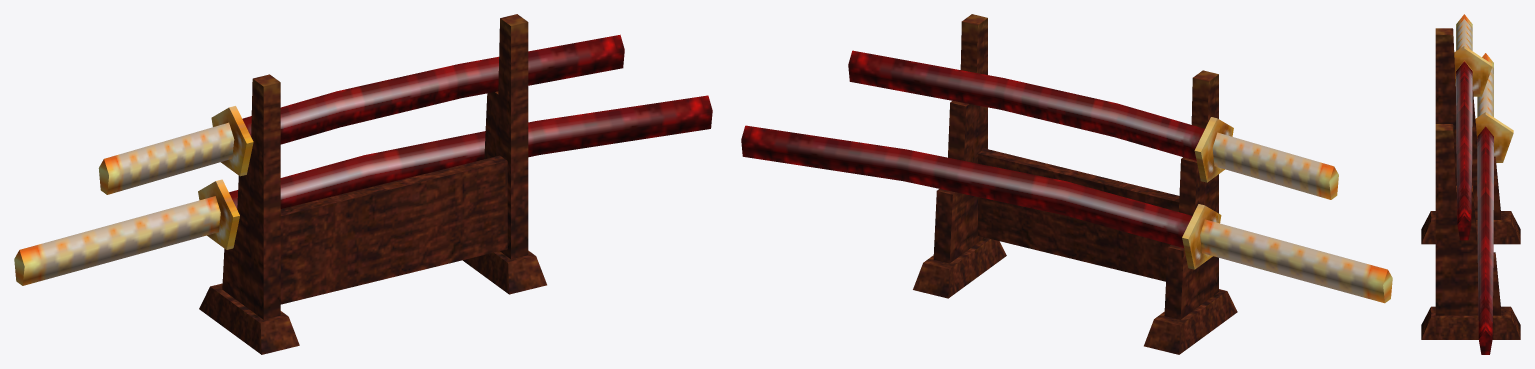
File: swordrack_s3.fbx
3 renders of one model, left to right at view 1: azimuth 30°, elevation 25°; view 2: azimuth 150°, elevation 25°; view 3: azimuth 270°, elevation 25°, orthographic. The views are drawn at different scales.
Visible parts, largest first — view 1: mesh_0, mesh_2, mesh_1, mesh_3, mesh_4; view 2: mesh_0, mesh_1, mesh_2, mesh_4, mesh_3; view 3: mesh_4, mesh_0, mesh_3, mesh_1.
Boxes of the visible parts, x1,y1,x2,y2 form: mesh_0: (14,95,712,285); mesh_2: (280,155,507,304); mesh_1: (98,34,624,194); mesh_3: (199,74,299,354); mesh_4: (463,14,546,294); mesh_0: (741,125,1392,303); mesh_1: (848,50,1338,199); mesh_2: (978,148,1179,281); mesh_4: (913,14,1006,298); mesh_3: (1144,70,1237,354); mesh_4: (1421,124,1520,339); mesh_0: (1475,53,1513,354); mesh_3: (1421,28,1520,244); mesh_1: (1454,14,1492,240).
Bounding box in the file's own units: 132 × 47.57 × 20.88.
Materials: 1 (1 with a texture image).
